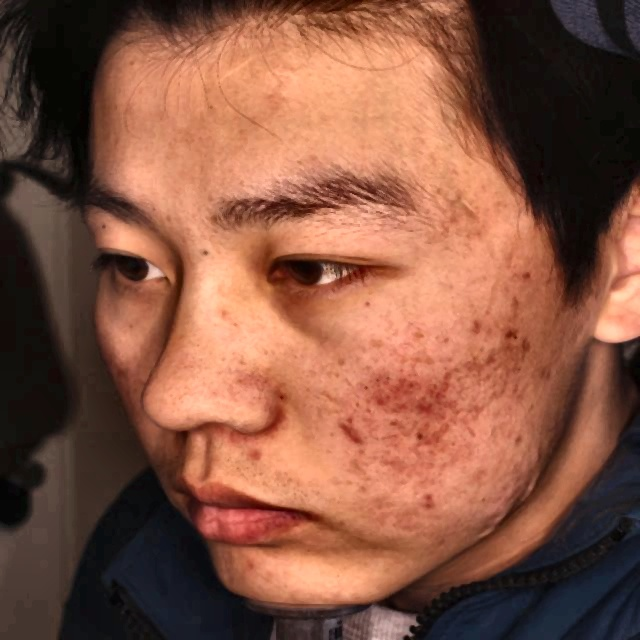comedone: (461, 310, 492, 344), (338, 419, 372, 444), (410, 397, 442, 421)
